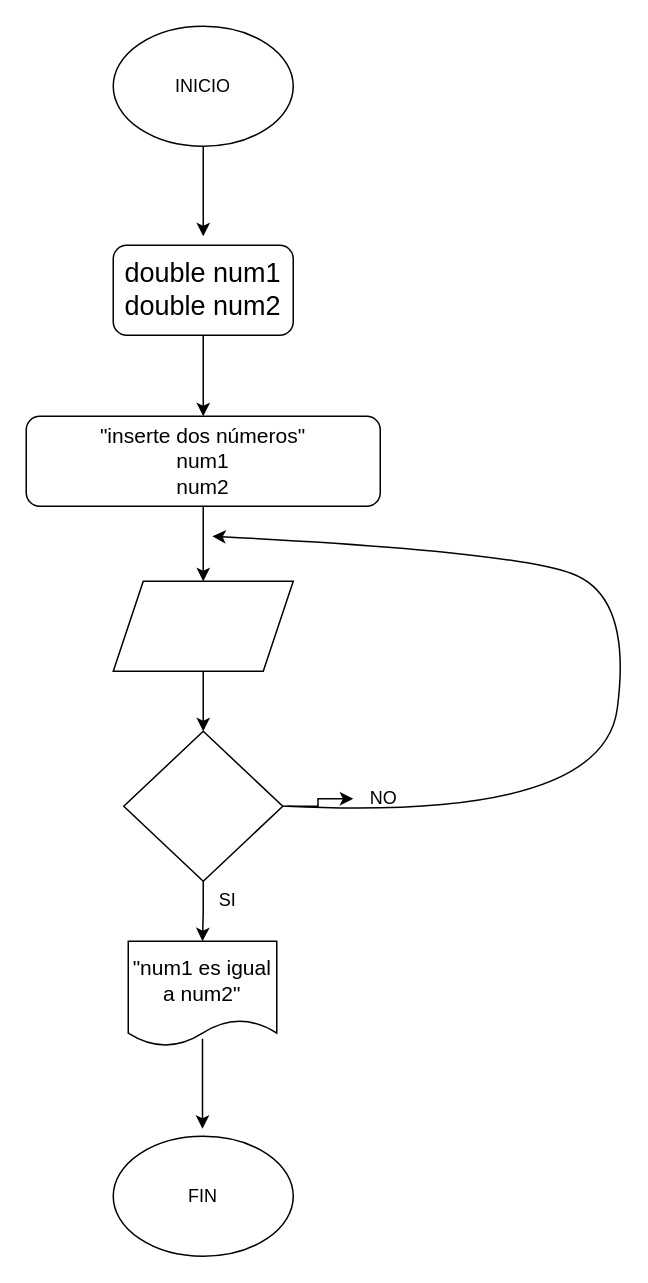
This 648x1283 diagram has some shape labels left out. The shapes that lost their labels are listed below. From the top down, each one's box as (x1, y1, x2, y2) in pixels, then its label:
(112, 580, 293, 671): num1 num2
(122, 730, 283, 881): num1==num2
